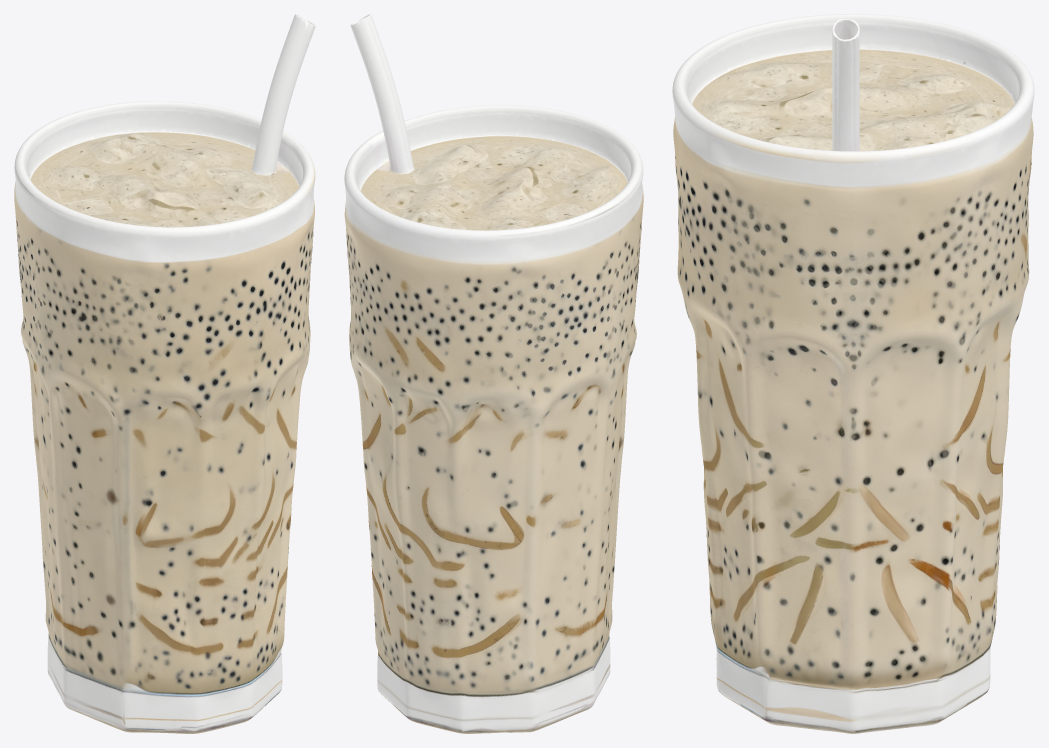
File: Alouda Milkshake.glb
The picture shows the model from 3 angles, left to right: view 1: azimuth 30°, elevation 25°; view 2: azimuth 150°, elevation 25°; view 3: azimuth 270°, elevation 25°; orthographic projection. The views are drawn at different scales.
Parts seen in each view (by area): view 1: Mesh_0.007; view 2: Mesh_0.007; view 3: Mesh_0.007.
Boxes of the visible parts, x1=… form: Mesh_0.007: x1=14, y1=14, x2=315, y2=733; Mesh_0.007: x1=344, y1=14, x2=643, y2=733; Mesh_0.007: x1=672, y1=14, x2=1034, y2=733.
Bounding box in the file's own units: 0.04 × 0.09 × 0.04.
Materials: 1 (1 with a texture image).
